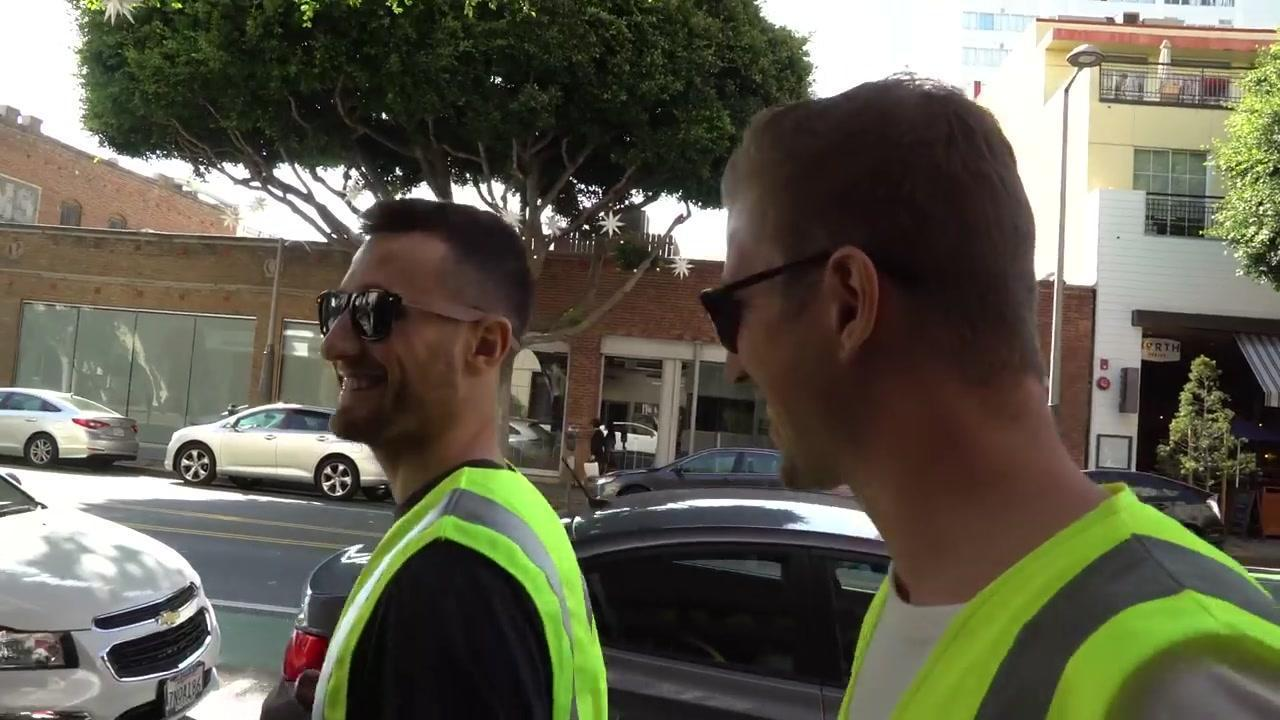vest: (833, 478, 1279, 719), (307, 463, 609, 719)
